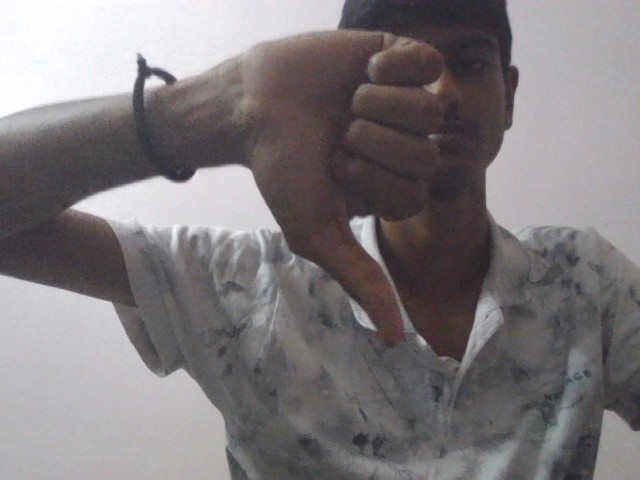no: (245, 34, 446, 349)
